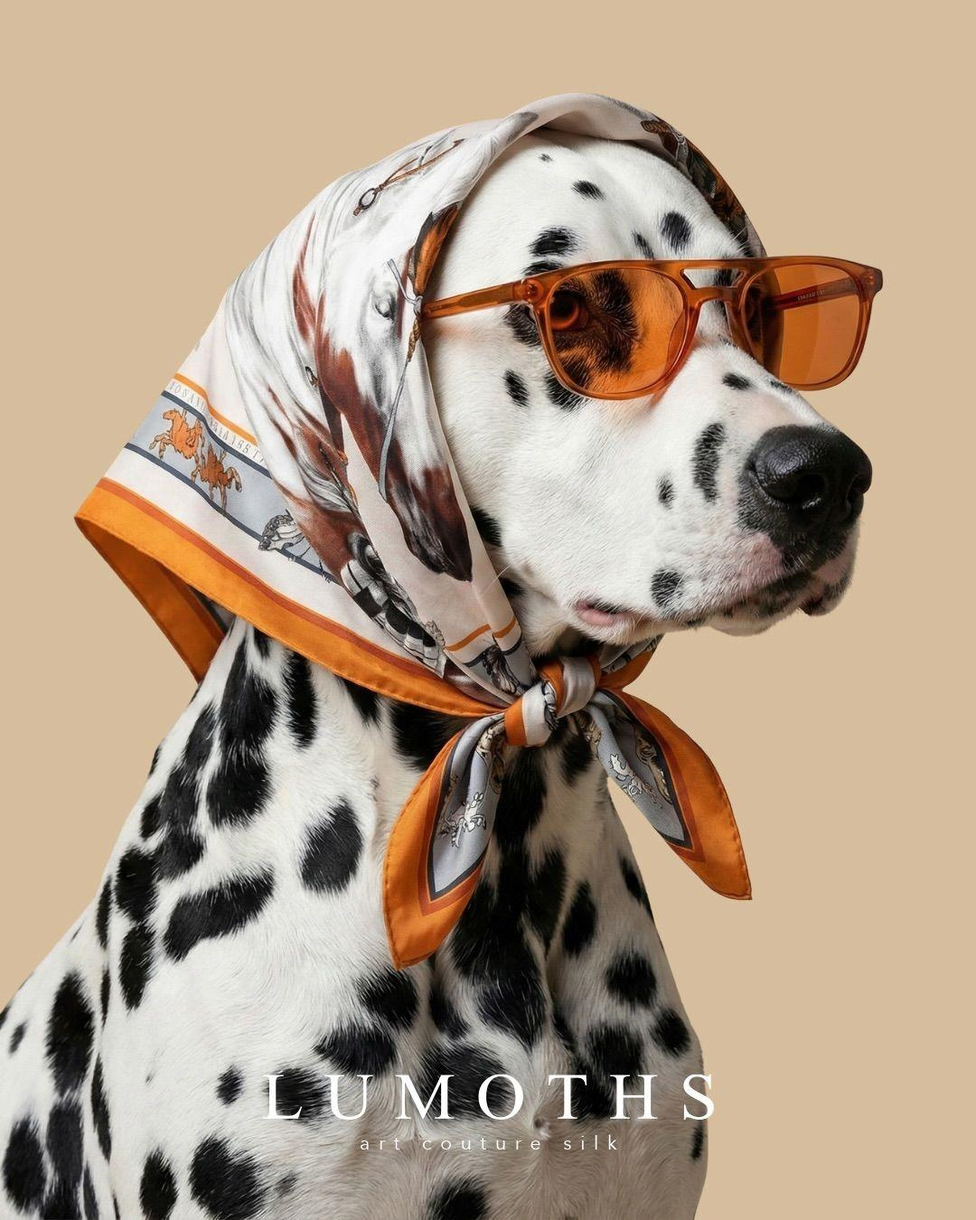adult_dog: (0, 84, 887, 1220)
